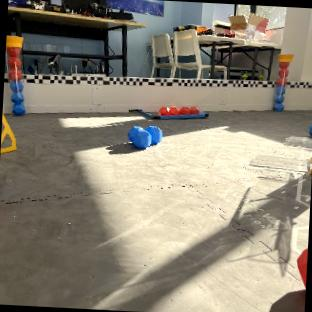Parking - B: (139, 110, 209, 119)
V5_BLUE: (128, 125, 160, 148)
V5_RED: (8, 48, 24, 113), (274, 55, 291, 110), (158, 106, 198, 115)
